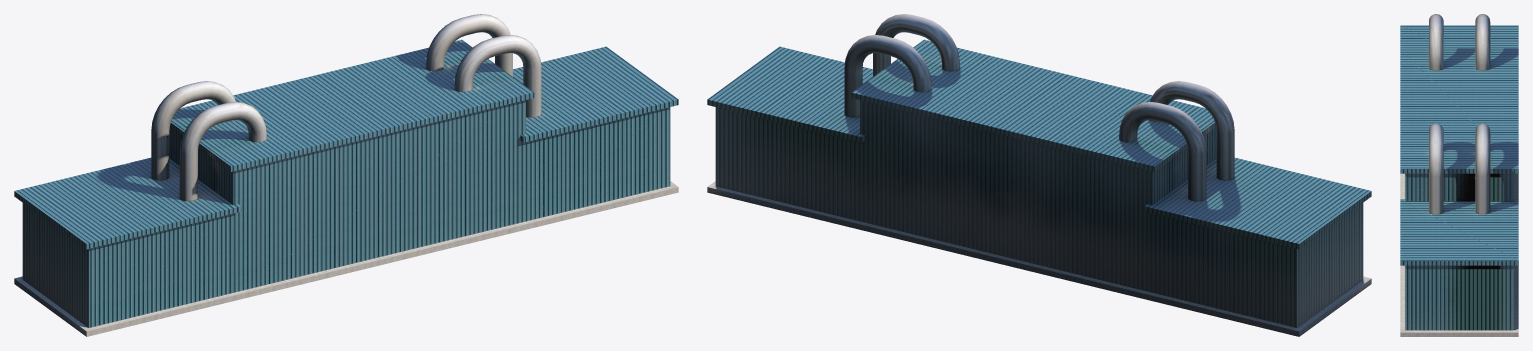
File: 处理设备.aef086e0.glb
The picture shows the model from 3 angles, left to right: view 1: azimuth 30°, elevation 25°; view 2: azimuth 150°, elevation 25°; view 3: azimuth 270°, elevation 25°; orthographic projection. The views are drawn at different scales.
Parts seen in each view (by area): view 1: 处理设备6, 处理设备9, 处理设备10, 处理设备8, 处理设备5, 处理设备7, 处理设备11, 处理设备2, 处理设备4, 处理设备3, 处理设备1; view 2: 处理设备6, 处理设备9, 处理设备10, 处理设备8, 处理设备5, 处理设备7, 处理设备11, 处理设备3, 处理设备1, 处理设备2, 处理设备4; view 3: 处理设备9, 处理设备7, 处理设备8, 处理设备6, 处理设备5, 处理设备11, 处理设备1, 处理设备4, 处理设备3, 处理设备2.
Part boxes in pixels (x1=…): 处理设备6: x1=169, y1=100, x2=525, y2=292; 处理设备9: x1=170, y1=39, x2=534, y2=171; 处理设备10: x1=22, y1=203, x2=233, y2=327; 处理设备8: x1=526, y1=107, x2=670, y2=221; 处理设备5: x1=14, y1=157, x2=241, y2=249; 处理设备7: x1=513, y1=46, x2=678, y2=142; 处理设备11: x1=14, y1=181, x2=678, y2=336; 处理设备2: x1=179, y1=102, x2=266, y2=201; 处理设备4: x1=454, y1=35, x2=541, y2=117; 处理设备3: x1=151, y1=81, x2=235, y2=180; 处理设备1: x1=426, y1=14, x2=512, y2=76; 处理设备6: x1=860, y1=100, x2=1216, y2=292; 处理设备9: x1=851, y1=39, x2=1215, y2=171; 处理设备10: x1=1152, y1=203, x2=1363, y2=327; 处理设备8: x1=715, y1=107, x2=859, y2=221; 处理设备5: x1=1144, y1=157, x2=1371, y2=249; 处理设备7: x1=707, y1=46, x2=872, y2=142; 处理设备11: x1=707, y1=181, x2=1371, y2=336; 处理设备3: x1=1119, y1=102, x2=1206, y2=201; 处理设备1: x1=844, y1=35, x2=931, y2=117; 处理设备2: x1=1150, y1=81, x2=1234, y2=180; 处理设备4: x1=873, y1=14, x2=959, y2=76; 处理设备9: x1=1400, y1=48, x2=1518, y2=173; 处理设备7: x1=1400, y1=199, x2=1518, y2=265; 处理设备8: x1=1405, y1=265, x2=1513, y2=330; 处理设备6: x1=1405, y1=173, x2=1513, y2=201; 处理设备5: x1=1400, y1=25, x2=1518, y2=48; 处理设备11: x1=1400, y1=173, x2=1518, y2=336; 处理设备1: x1=1475, y1=123, x2=1490, y2=214; 处理设备4: x1=1429, y1=123, x2=1443, y2=214; 处理设备3: x1=1475, y1=14, x2=1490, y2=70; 处理设备2: x1=1429, y1=14, x2=1443, y2=70.
Size of the model in its own units: 22.65 by 6.48 by 4.8.
Materials: 11 (11 with a texture image).
